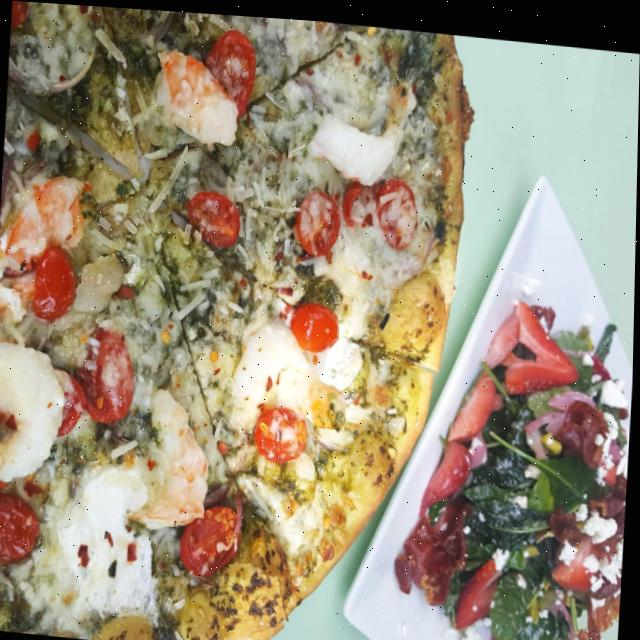pizza: (0, 0, 477, 640)
tomatoes: (81, 327, 138, 422), (180, 497, 246, 577), (203, 20, 256, 119), (29, 240, 81, 323), (251, 401, 308, 464), (374, 169, 420, 247), (293, 184, 342, 254), (187, 187, 242, 249), (0, 493, 44, 563), (290, 297, 343, 350), (52, 369, 89, 436), (340, 177, 373, 232), (11, 1, 29, 30)
